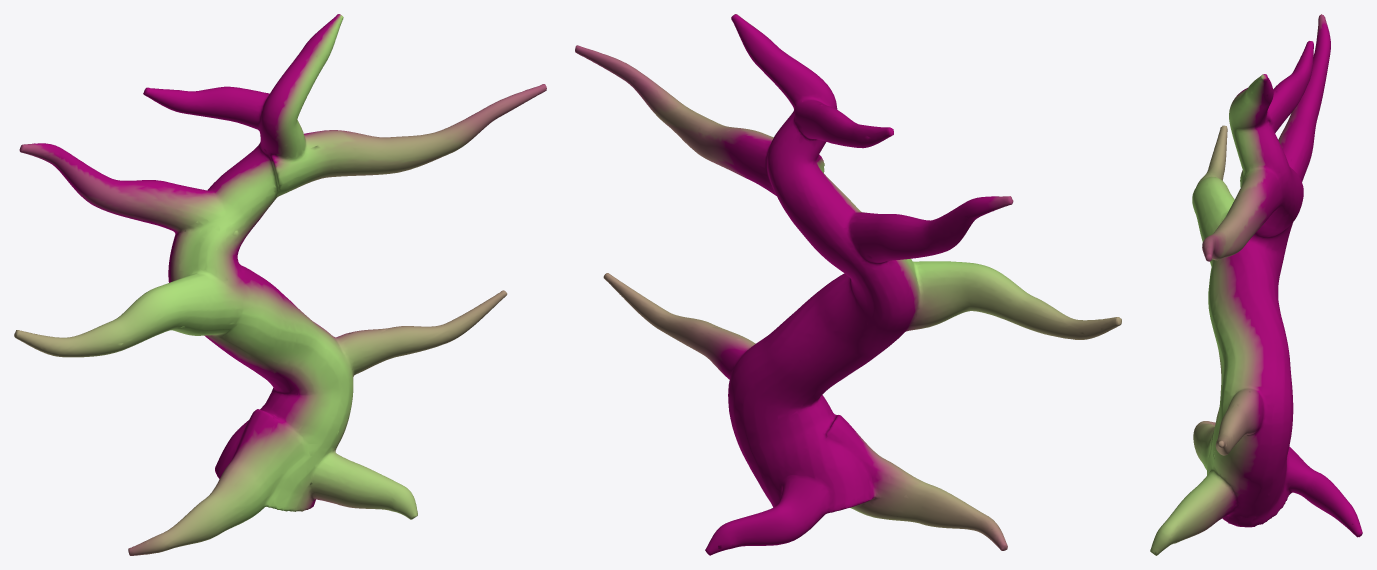
File: grip-v01.glb
3 renders of one model, left to right at view 1: azimuth 30°, elevation 25°; view 2: azimuth 150°, elevation 25°; view 3: azimuth 270°, elevation 25°, orthographic. The views are drawn at different scales.
Visible parts, largest first — view 1: Continuous aged trunk and primary branches; view 2: Continuous aged trunk and primary branches; view 3: Continuous aged trunk and primary branches.
Boxes of the visible parts, x1=… form: Continuous aged trunk and primary branches: x1=14, y1=14, x2=546, y2=555; Continuous aged trunk and primary branches: x1=575, y1=14, x2=1121, y2=555; Continuous aged trunk and primary branches: x1=1150, y1=14, x2=1362, y2=555.
Size of the model in its own units: 1.97 by 1.69 by 0.6876.
